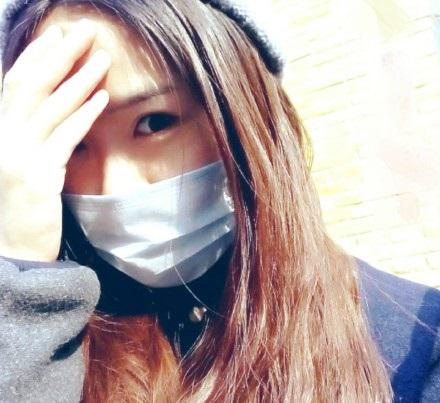WRONG: (46, 88, 238, 287)
